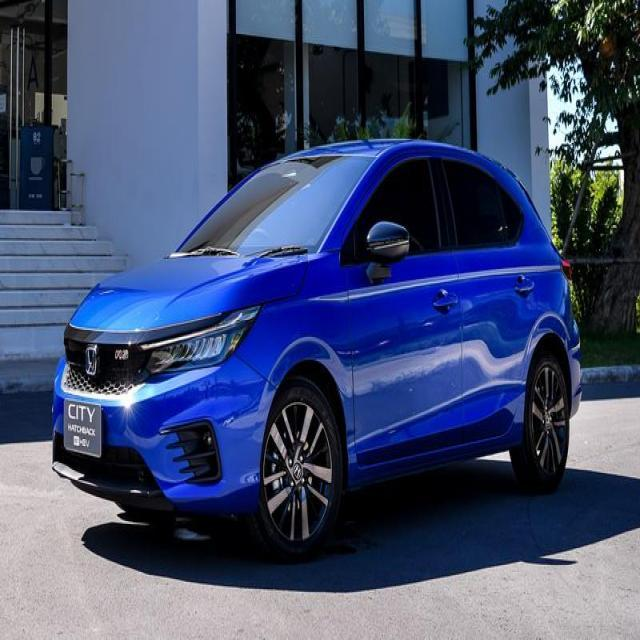Hatchback: (51, 139, 585, 564)
